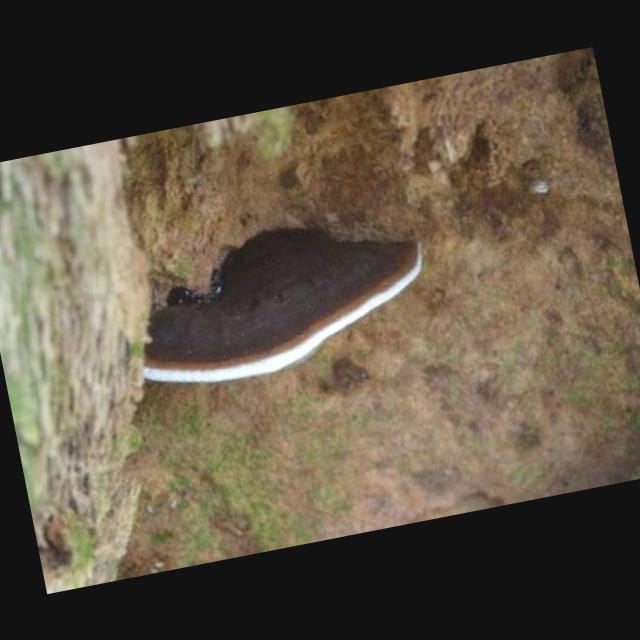ganoderma: (118, 200, 443, 402)
